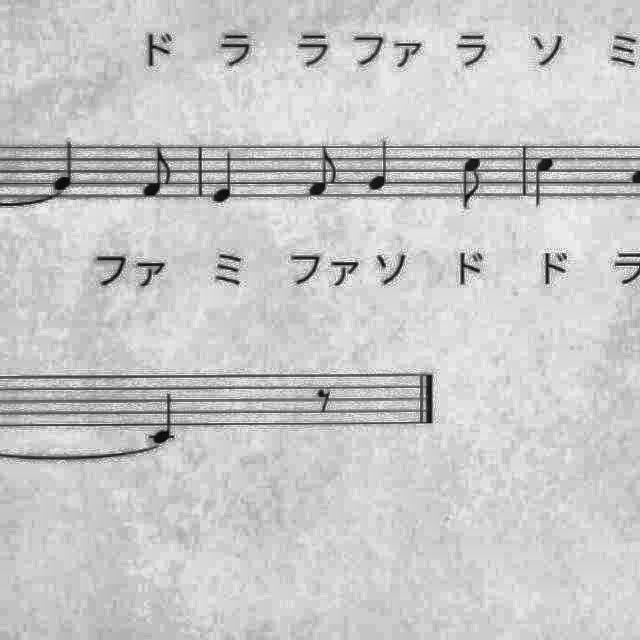Eighth-note: (137, 143, 179, 205), (305, 140, 347, 202), (456, 152, 488, 215)
Eighth-rest: (312, 384, 336, 418)
Quarter-note: (142, 389, 182, 447), (48, 140, 86, 197), (208, 148, 244, 208), (362, 137, 398, 196), (530, 150, 562, 208)
